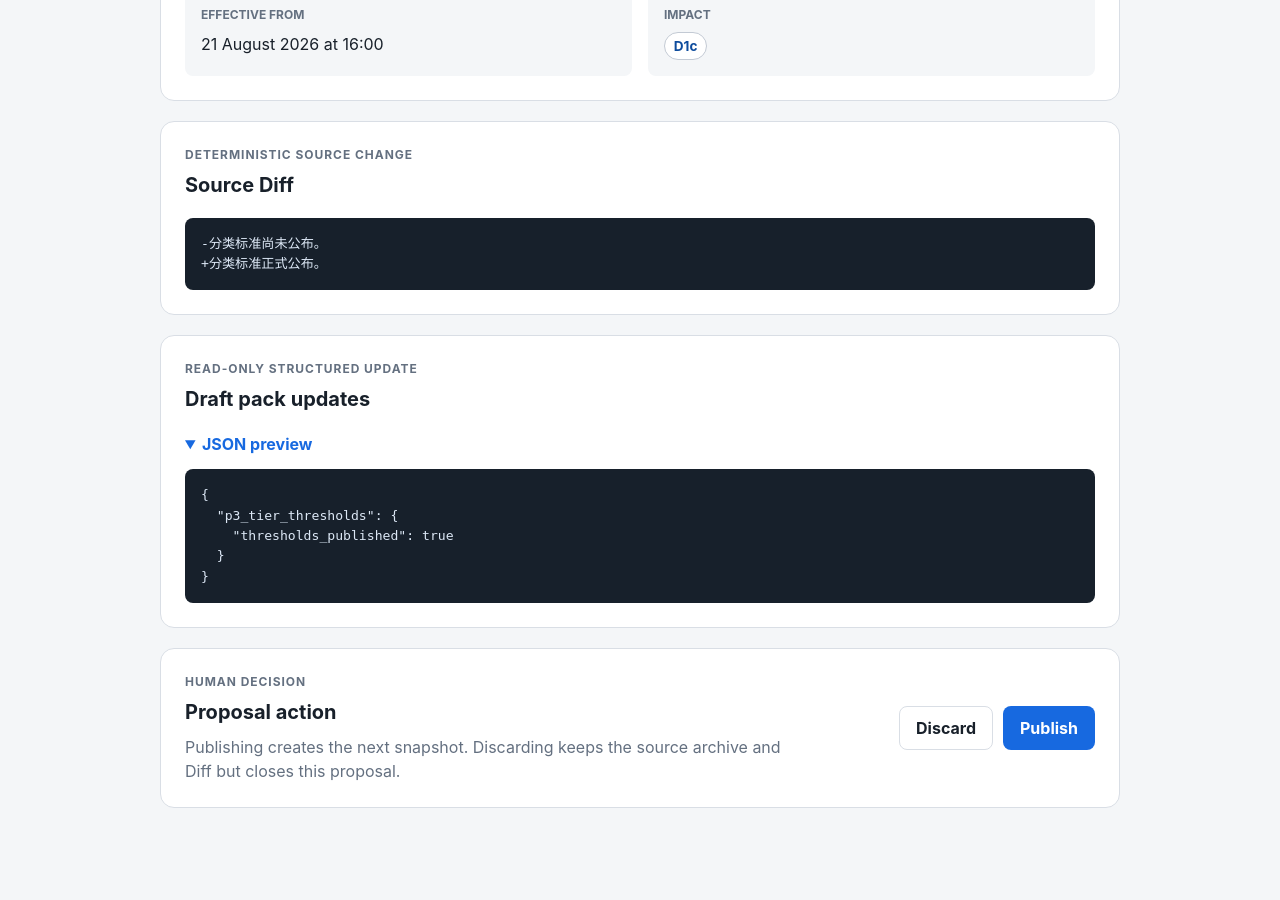
Test: ProposalDetailPage › keeps the page and shows action failures inline
(page scrolled)
Step 1. Click the button "Publish" → [1049, 728], box [1003,706,1095,750]
(page scrolled)
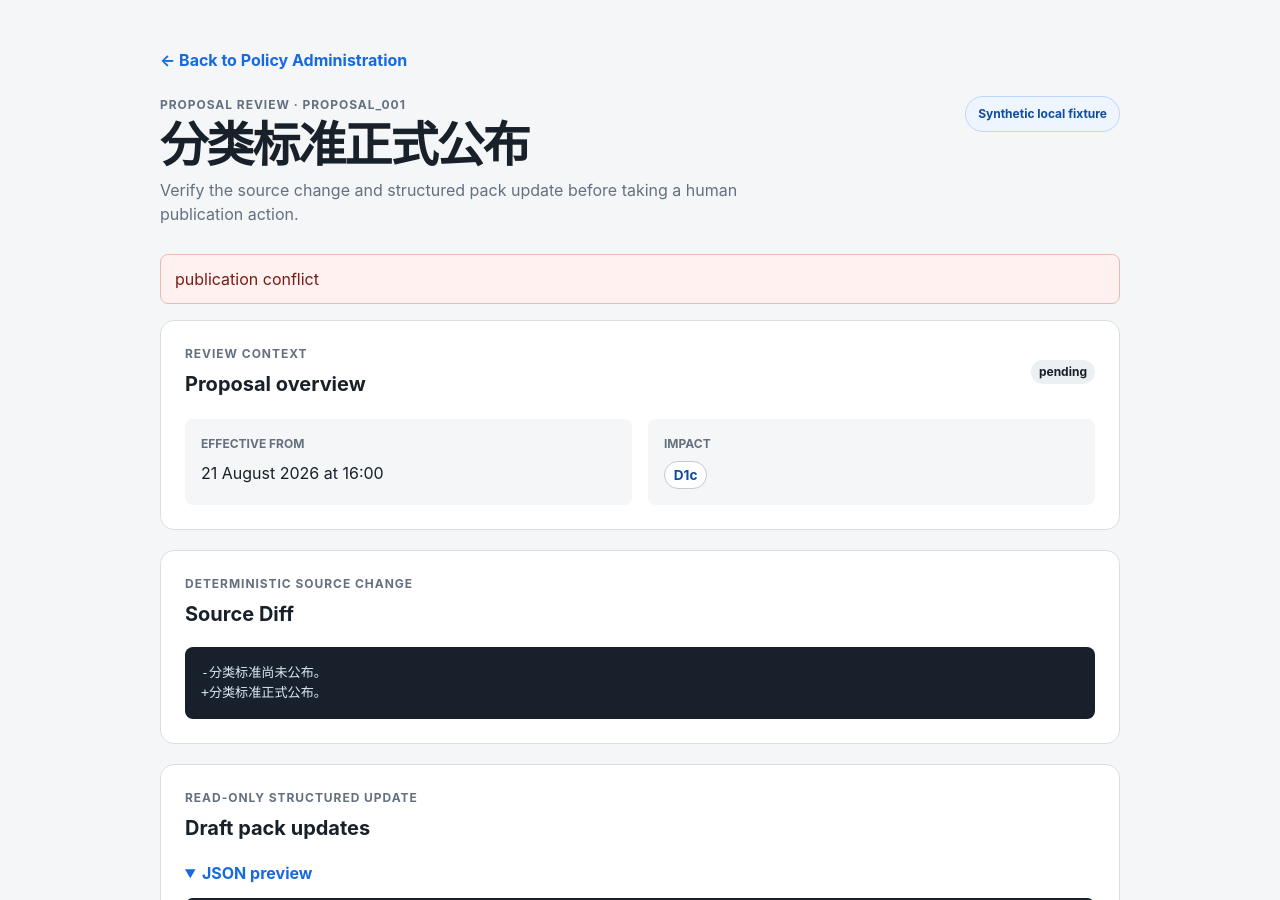
Expected: the heading "分类标准正式公布" is shown, [160,115,529,174]
Result: the message reads "publication conflict" at [175,269,319,289]
